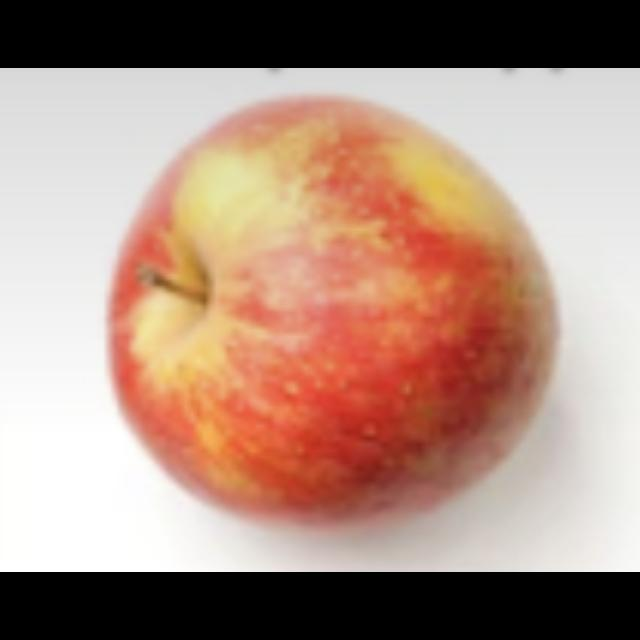Apel Segar: (124, 95, 561, 522)
